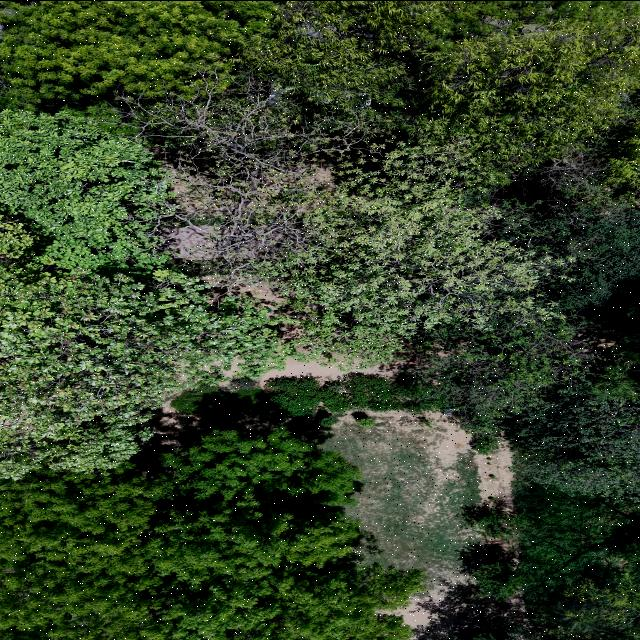DRY_AREA: (321, 411, 522, 639), (322, 411, 522, 639), (323, 411, 522, 638), (323, 411, 511, 635), (323, 411, 480, 595), (258, 358, 404, 385)
VEGETATION_TREE: (0, 1, 639, 639), (2, 2, 637, 360), (160, 86, 551, 361), (0, 110, 282, 477), (1, 428, 421, 639), (245, 3, 637, 190), (1, 268, 277, 476), (279, 183, 551, 361), (267, 318, 583, 443), (1, 1, 276, 105), (1, 110, 167, 273), (473, 480, 639, 639), (493, 150, 639, 311), (411, 315, 584, 431), (515, 483, 639, 639), (506, 381, 639, 499), (171, 373, 446, 419), (267, 374, 443, 415), (589, 284, 639, 400), (170, 379, 271, 415), (267, 377, 349, 415), (472, 561, 523, 599), (465, 509, 527, 539), (0, 221, 32, 257), (470, 625, 530, 639), (471, 434, 500, 454), (355, 415, 375, 428), (487, 496, 495, 501)
